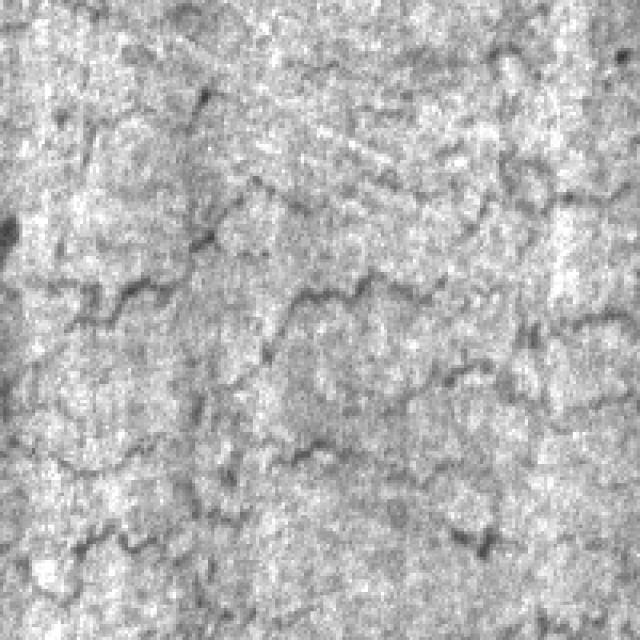crazing: (68, 266, 630, 522), (186, 0, 627, 298), (0, 390, 246, 607)
